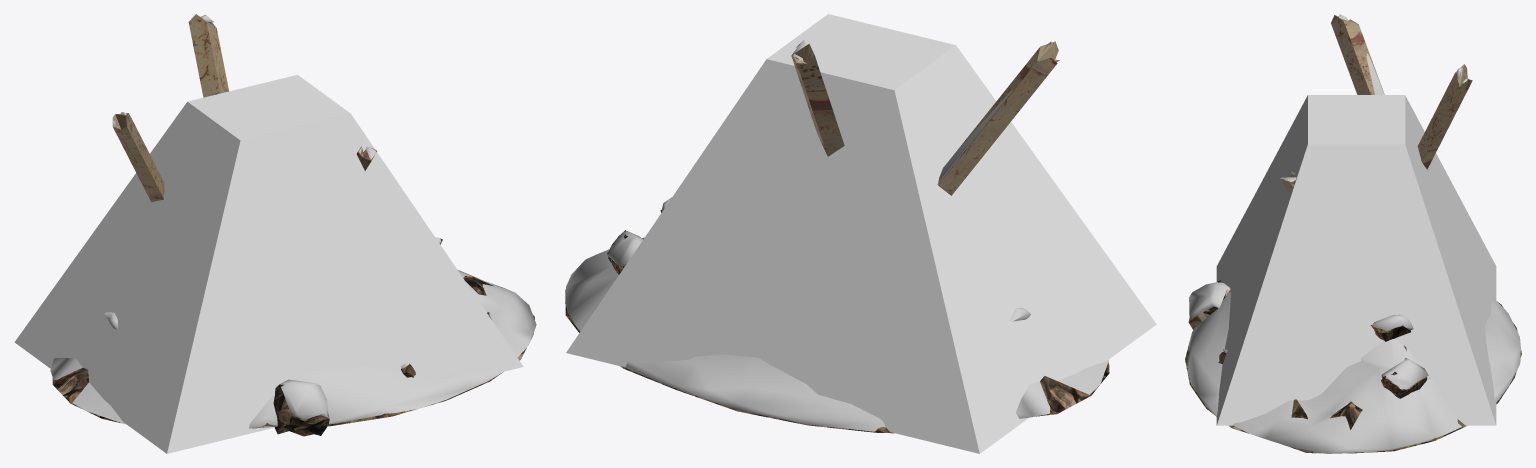
File: Debriz.fbx
3 views of the same model, side by side, from view 1: azimuth 30°, elevation 25°; view 2: azimuth 150°, elevation 25°; view 3: azimuth 270°, elevation 25° (orthographic). The views are drawn at different scales.
Parts seen in each view (by area): view 1: Debriz_col, snow, Debriz; view 2: Debriz_col, snow, Debriz; view 3: Debriz_col, snow, Debriz.
Part boxes in pixels (x1,y1,x2,y2): Debriz_col: (14, 74, 523, 453); snow: (50, 15, 536, 428); Debriz: (52, 14, 534, 436); Debriz_col: (566, 14, 1156, 453); snow: (565, 40, 1108, 431); Debriz: (565, 41, 1109, 433); Debriz_col: (1216, 95, 1496, 425); snow: (1187, 14, 1520, 453); Debriz: (1185, 15, 1521, 453).
Size of the model in its own units: 172 by 116 by 124.
